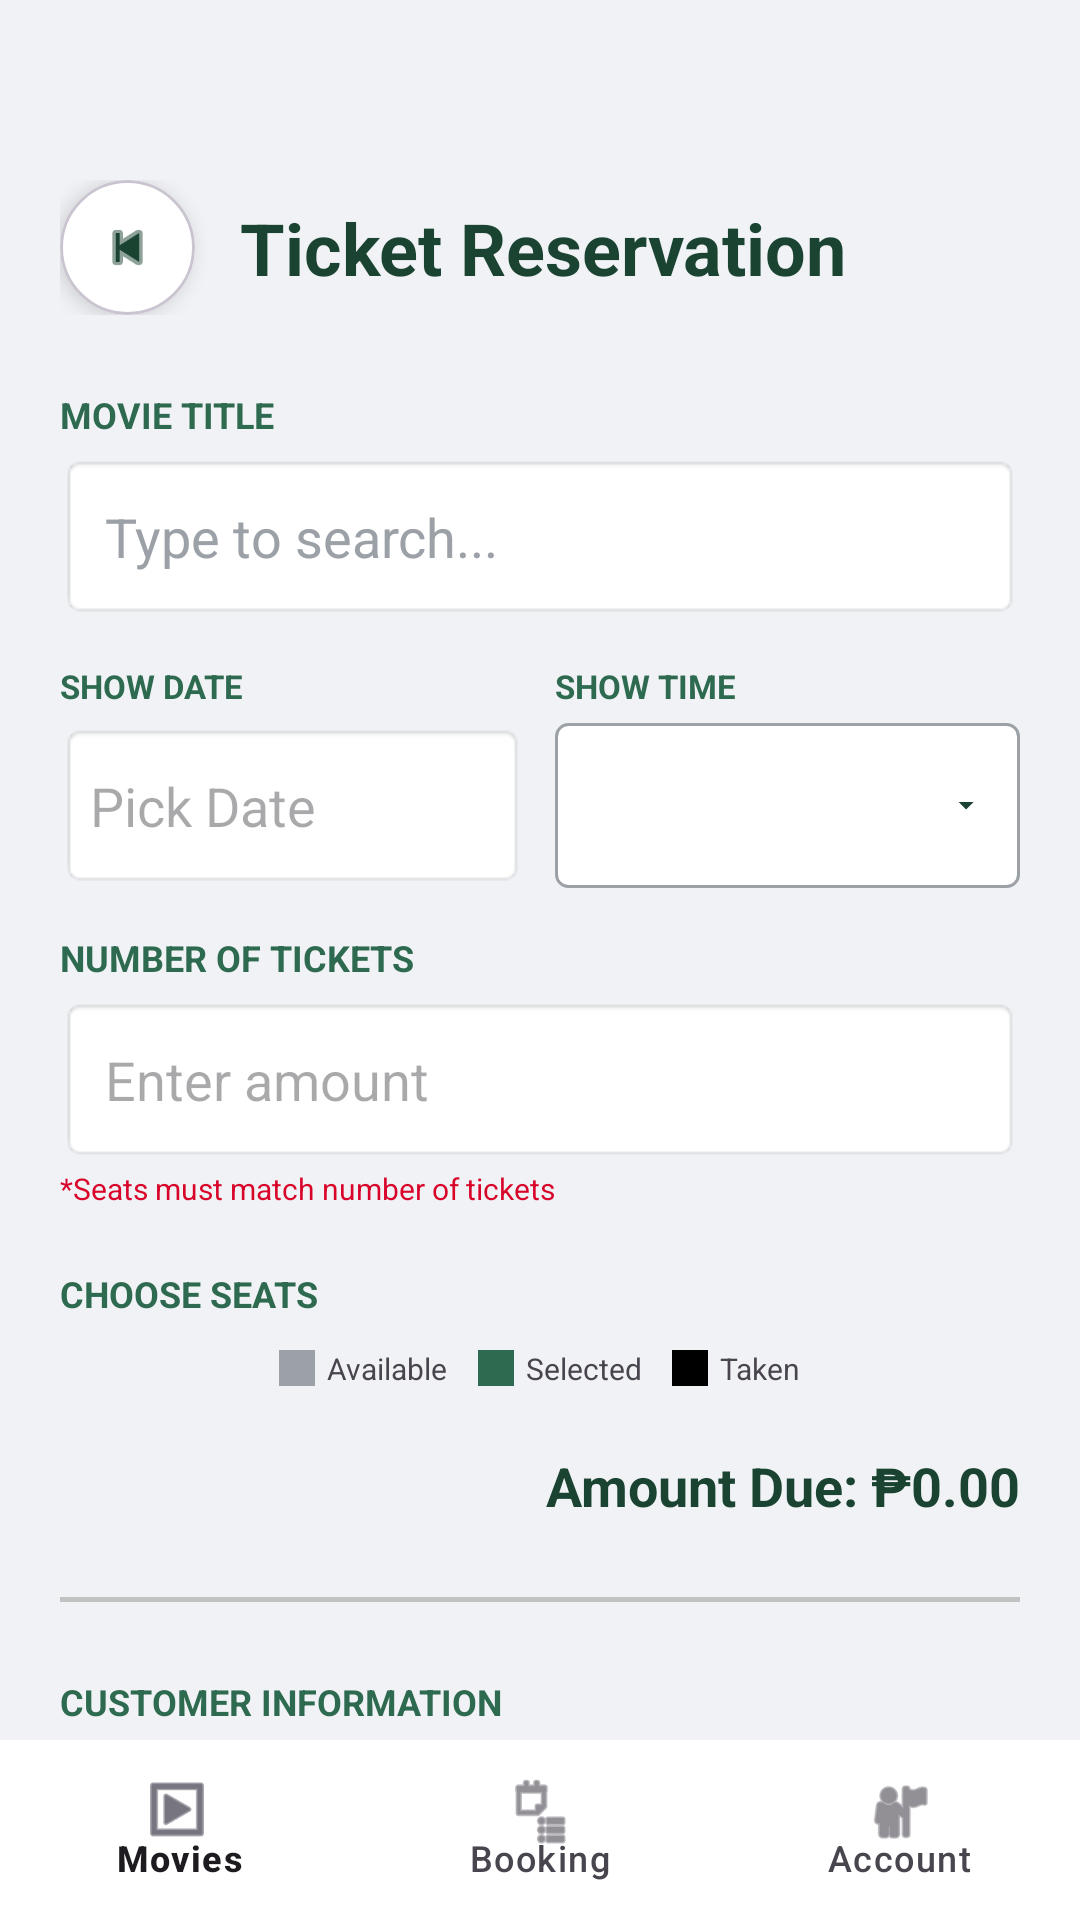

Icon click points for this 1080 x 1920 phone screenshot, format [x,y]:
previous: [127,247]
